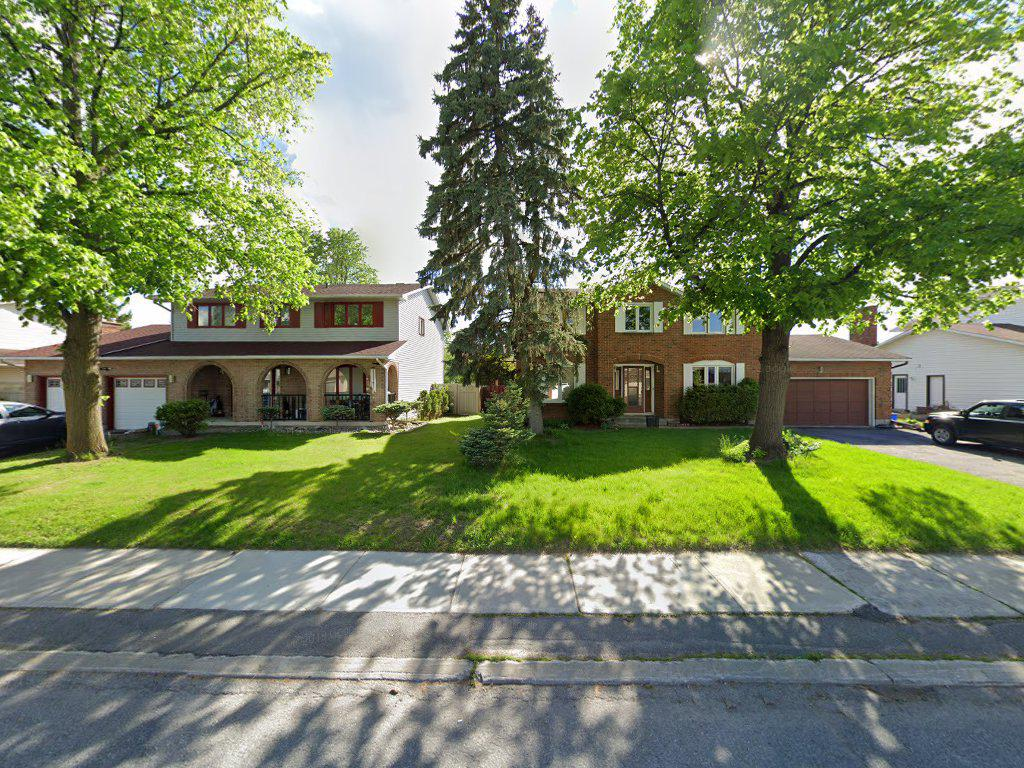trunk: (57, 296, 113, 478), (752, 279, 800, 471)
